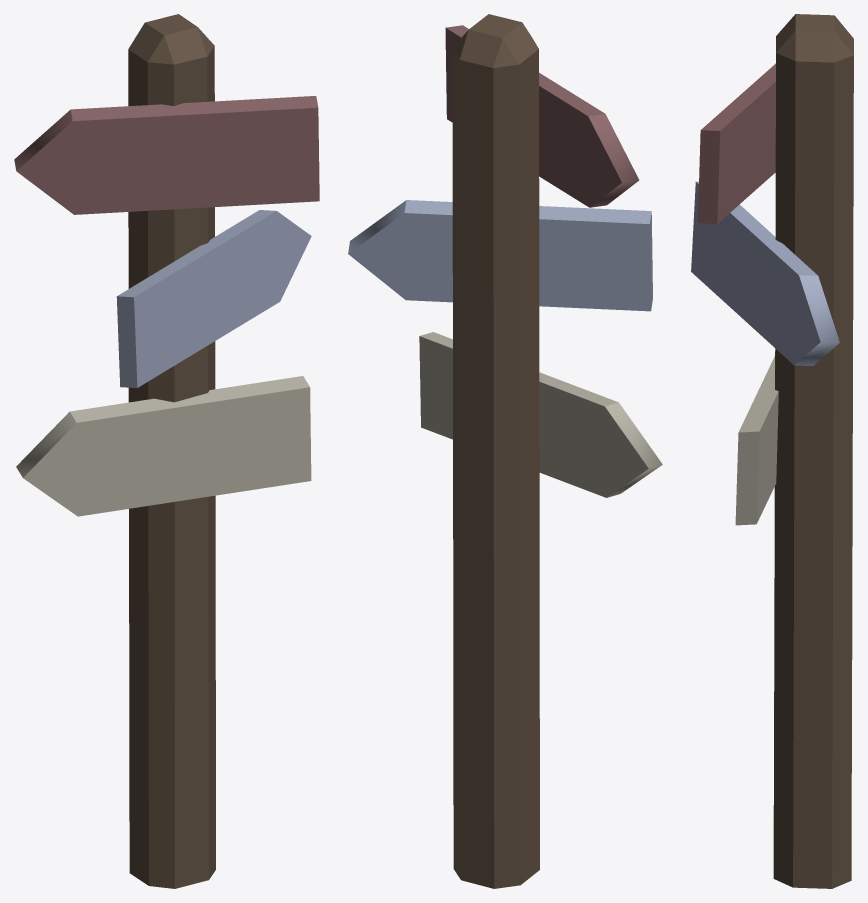
File: wijs bord.fbx
The picture shows the model from 3 angles, left to right: view 1: azimuth 30°, elevation 25°; view 2: azimuth 150°, elevation 25°; view 3: azimuth 270°, elevation 25°; orthographic projection.
Visible parts, largest first — view 1: pCube15; view 2: pCube15; view 3: pCube15.
Part boxes in pixels (x1,y1,x2,y2): pCube15: [14, 14, 319, 888]; pCube15: [348, 14, 662, 888]; pCube15: [691, 14, 853, 888].
Size of the model in its own units: 3.43 by 9.23 by 1.6.
